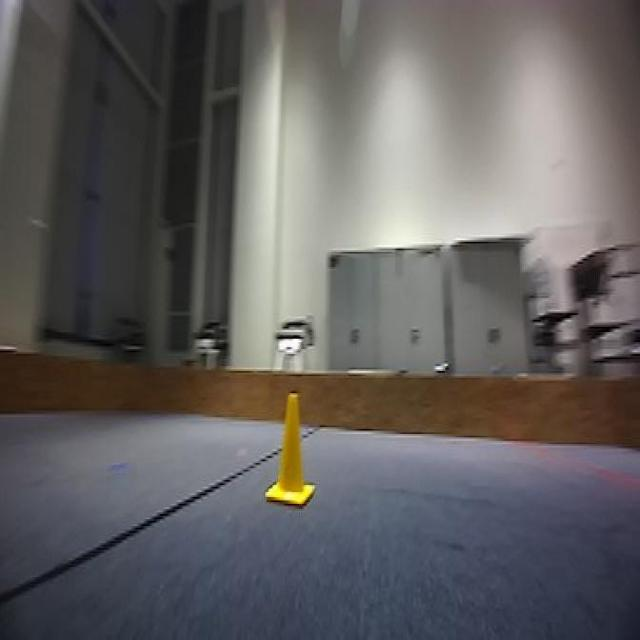frc_cone: (266, 393, 317, 512)
